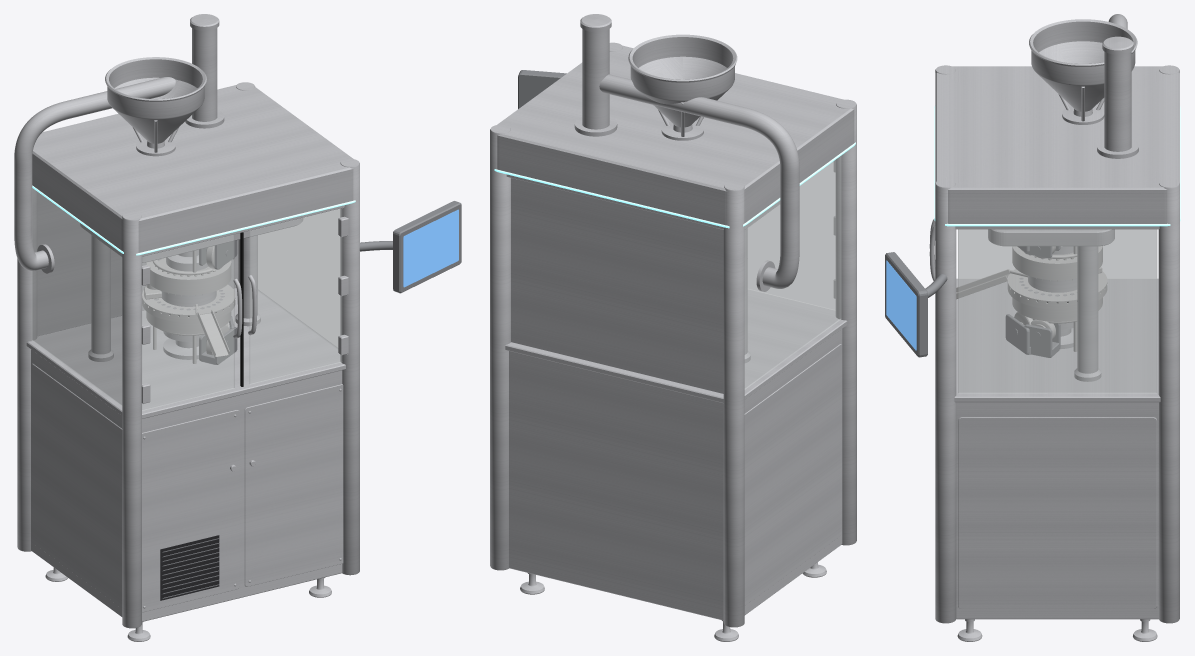
Rendered from rotary_tablet_press_lite.glb.
3 renders of one model, left to right at view 1: azimuth 30°, elevation 25°; view 2: azimuth 150°, elevation 25°; view 3: azimuth 270°, elevation 25°, orthographic. The views are drawn at different scales.
Parts seen in each view (by area): view 1: MachineFrame, GuardGlass, TrimSealsLedHmi, PressMechanism, UpperPunchGuide, DieTable, LowerPunchGuide; view 2: MachineFrame, GuardGlass, TrimSealsLedHmi; view 3: MachineFrame, GuardGlass, TrimSealsLedHmi, PressMechanism, DieTable, UpperPunchGuide, LowerPunchGuide.
Boxes of the visible parts, x1,y1,x2,y2 form: MachineFrame: (14, 14, 359, 641); GuardGlass: (31, 188, 342, 410); TrimSealsLedHmi: (32, 185, 461, 600); PressMechanism: (144, 240, 237, 364); UpperPunchGuide: (146, 258, 231, 295); DieTable: (142, 284, 235, 322); LowerPunchGuide: (146, 311, 231, 334); MachineFrame: (490, 14, 856, 641); GuardGlass: (744, 155, 841, 389); TrimSealsLedHmi: (494, 70, 855, 228); MachineFrame: (929, 14, 1179, 641); GuardGlass: (958, 229, 1157, 393); TrimSealsLedHmi: (885, 106, 1180, 357); PressMechanism: (956, 246, 1102, 357); DieTable: (1007, 269, 1107, 309); UpperPunchGuide: (1012, 246, 1102, 280); LowerPunchGuide: (1012, 297, 1102, 321).
Size of the model in its own units: 1.44 by 2.08 by 0.9799.
11 materials, 5 textured.
